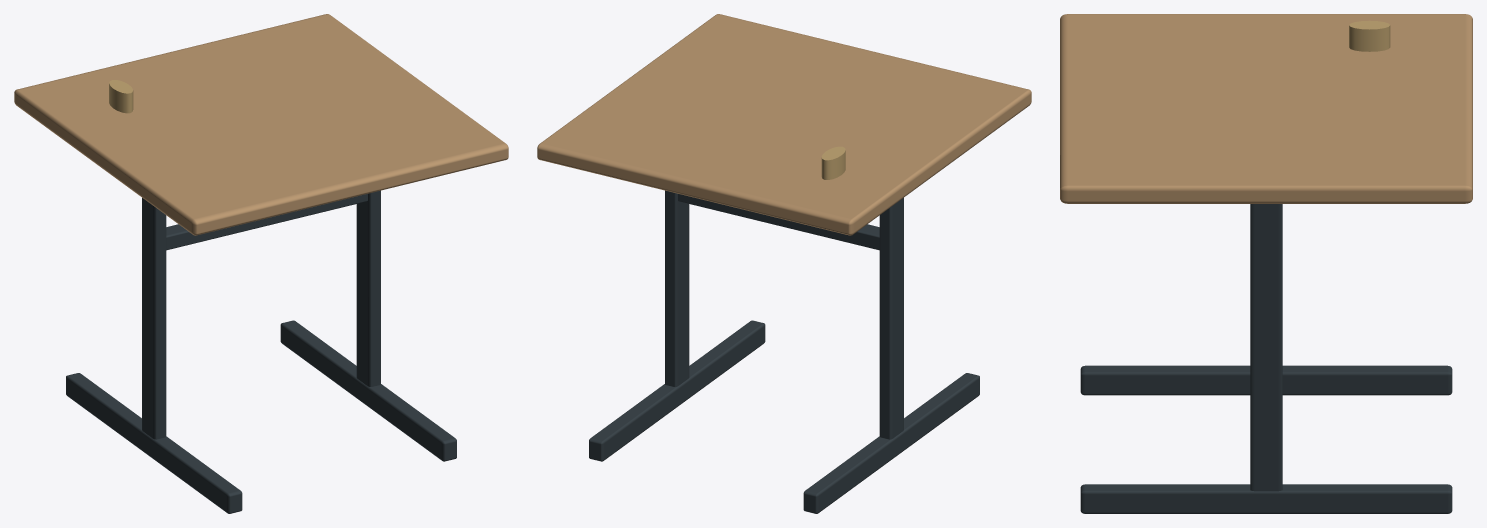
File: desk-5-1.glb
The picture shows the model from 3 angles, left to right: view 1: azimuth 30°, elevation 25°; view 2: azimuth 150°, elevation 25°; view 3: azimuth 270°, elevation 25°; orthographic projection. The views are drawn at different scales.
Visible parts, largest first — view 1: upholstery (×2), part; view 2: upholstery (×2), part; view 3: upholstery (×2), part.
Boxes of the visible parts, x1,y1,x2,y2 form: upholstery (×2): [14, 14, 508, 513]; part: [109, 80, 133, 113]; upholstery (×2): [537, 14, 1031, 513]; part: [821, 146, 845, 179]; upholstery (×2): [1060, 14, 1472, 513]; part: [1349, 20, 1390, 51].
Bounding box in the file's own units: 1 × 1 × 1.
